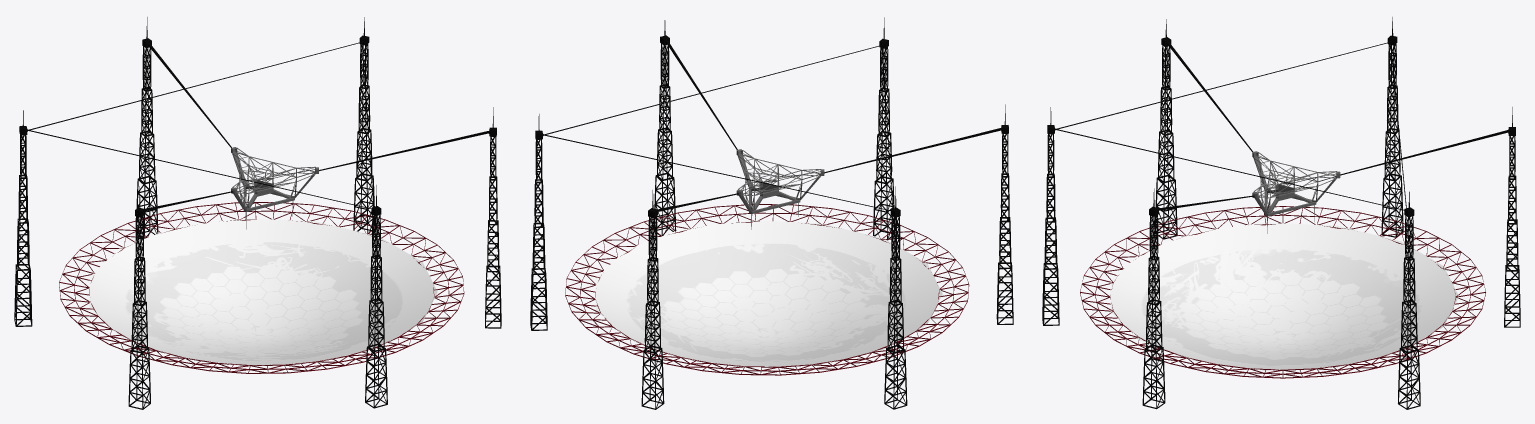
The model's file is radardish.glb.
3 renders of one model, left to right at view 1: azimuth 30°, elevation 25°; view 2: azimuth 150°, elevation 25°; view 3: azimuth 270°, elevation 25°, orthographic.
Visible parts, largest first — view 1: dish, antennae, circular truss; view 2: dish, antennae, circular truss; view 3: dish, antennae, circular truss.
Part boxes in pixels (bbox=[...]): dish: bbox=[89, 218, 437, 365]; antennae: bbox=[14, 17, 501, 409]; circular truss: bbox=[59, 202, 464, 373]; dish: bbox=[595, 220, 942, 367]; antennae: bbox=[530, 17, 1013, 409]; circular truss: bbox=[565, 204, 969, 375]; dish: bbox=[1110, 222, 1458, 370]; antennae: bbox=[1042, 17, 1520, 409]; circular truss: bbox=[1080, 206, 1485, 378].
Size of the model in its own units: 4.41 by 2.67 by 4.94.
Materials: 4 (1 with a texture image).
